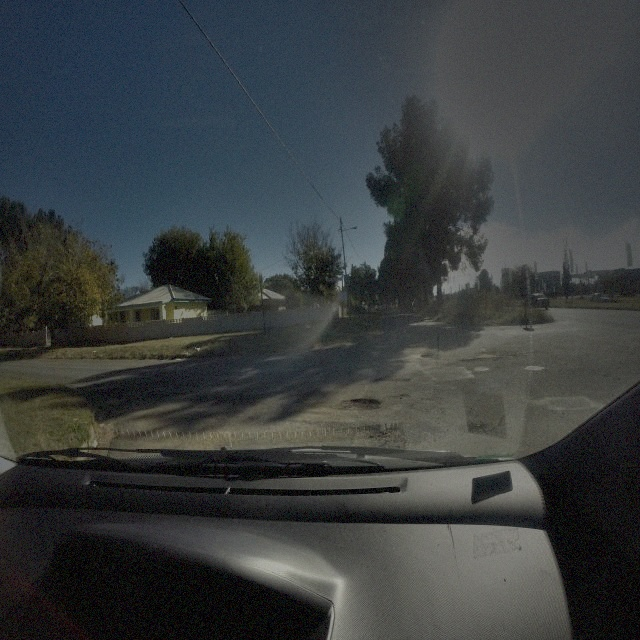pothole: (350, 423, 407, 446), (344, 398, 381, 412)
